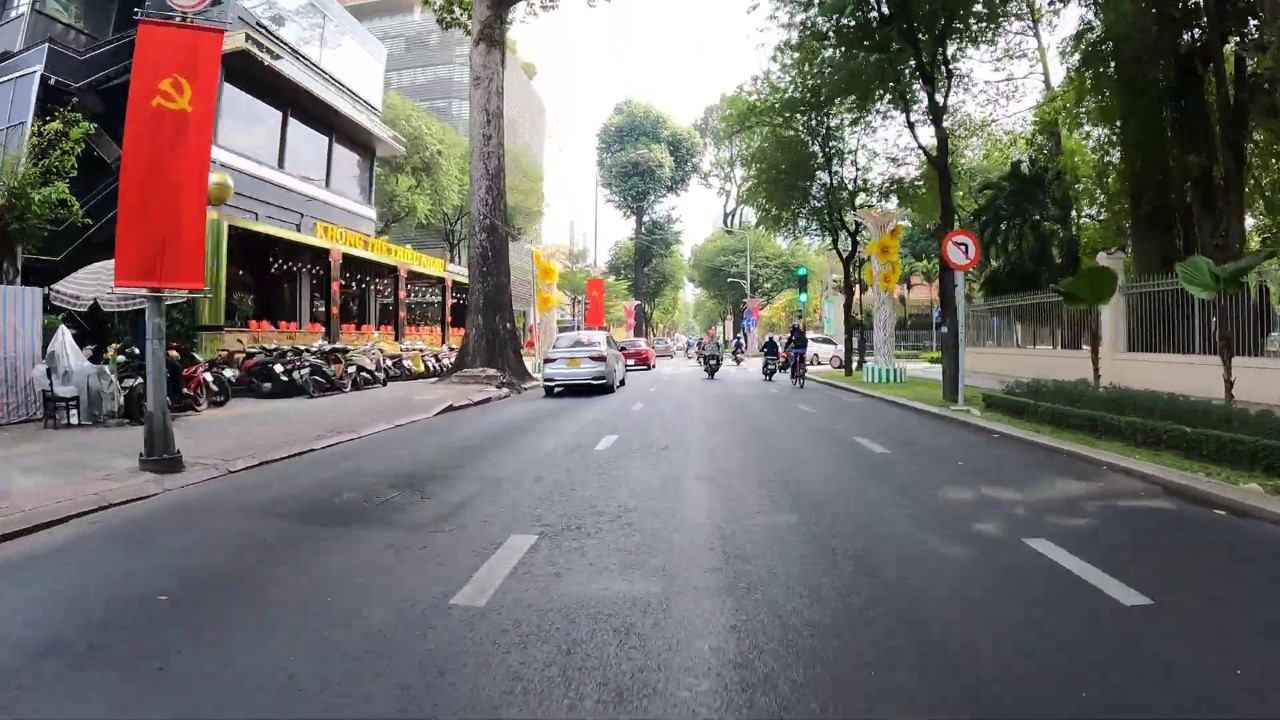cam_re_trai: (941, 229, 982, 271)
